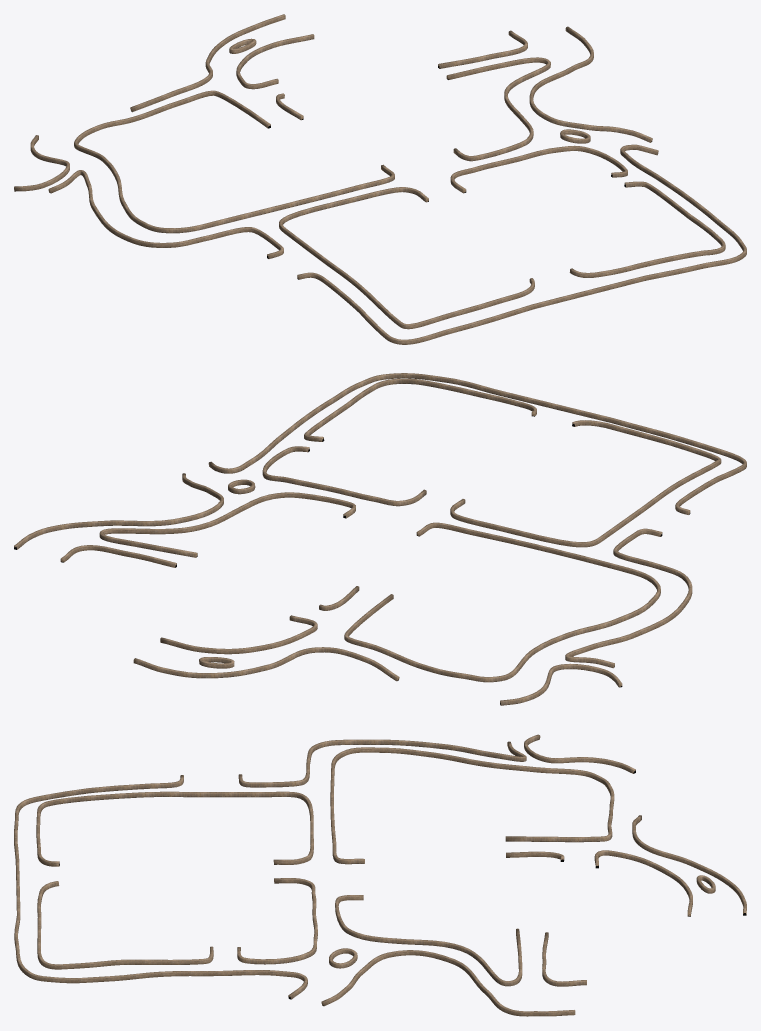
Rendered from curbs.glb.
The picture shows the model from 3 angles, top to bottom: view 1: azimuth 30°, elevation 25°; view 2: azimuth 150°, elevation 25°; view 3: azimuth 270°, elevation 25°; orthographic projection. The views are drawn at different scales.
Parts seen in each view (by area): view 1: curb_Bake; view 2: curb_Bake; view 3: curb_Bake.
Part boxes in pixels (x1,y1,x2,y2): curb_Bake: (14,14,746,344); curb_Bake: (14,373,746,705); curb_Bake: (14,734,746,1016).
Bounding box in the file's own units: 33.02 × 1.3 × 35.85.
1 material, 1 textured.
